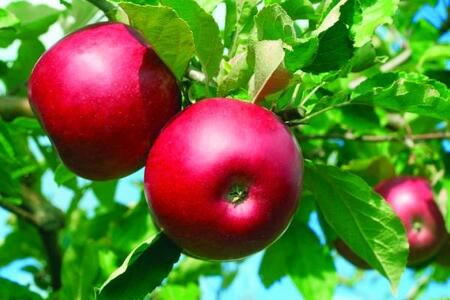apple: (142, 92, 314, 265)
